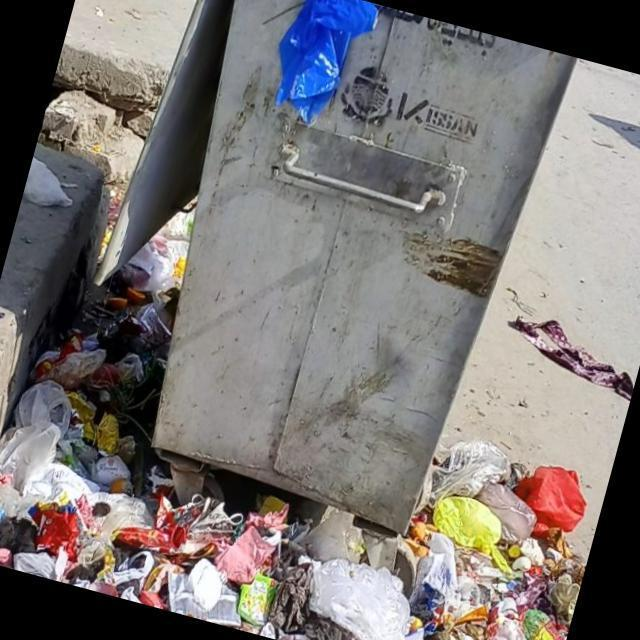garbage: (4, 159, 228, 597), (117, 455, 583, 640), (404, 434, 608, 572), (492, 293, 640, 417), (261, 0, 388, 134), (0, 322, 67, 567), (16, 146, 84, 234)
